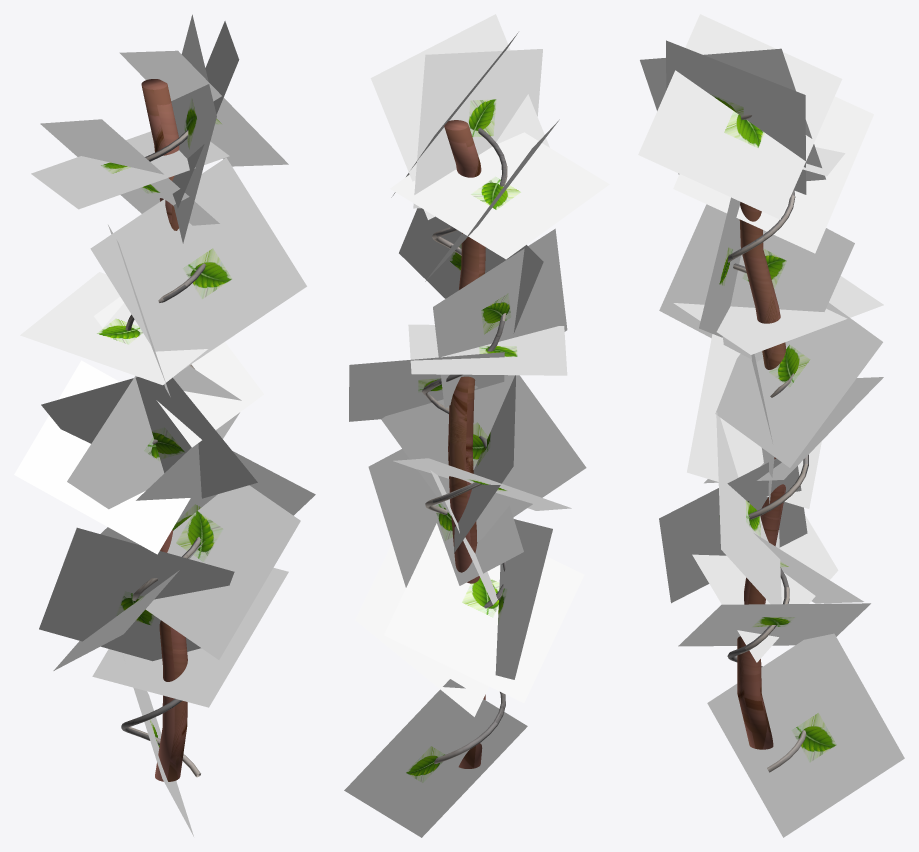
Rendered from rose vines.fbx.
The picture shows the model from 3 angles, left to right: view 1: azimuth 30°, elevation 25°; view 2: azimuth 150°, elevation 25°; view 3: azimuth 270°, elevation 25°; orthographic projection. The views are drawn at different scales.
Parts seen in each view (by area): view 1: Leaves, Stick, Vines low poly; view 2: Leaves, Stick, Vines low poly; view 3: Leaves, Stick, Vines low poly.
Part boxes in pixels (bbox=[...]): Leaves: bbox=[14, 14, 315, 836]; Stick: bbox=[141, 79, 187, 781]; Vines low poly: bbox=[121, 129, 205, 777]; Leaves: bbox=[344, 14, 609, 837]; Stick: bbox=[444, 120, 485, 768]; Vines low poly: bbox=[422, 128, 507, 764]; Leaves: bbox=[638, 14, 904, 837]; Stick: bbox=[737, 202, 785, 749]; Vines low poly: bbox=[727, 114, 808, 772].
Size of the model in its own units: 185 by 571 by 173.
